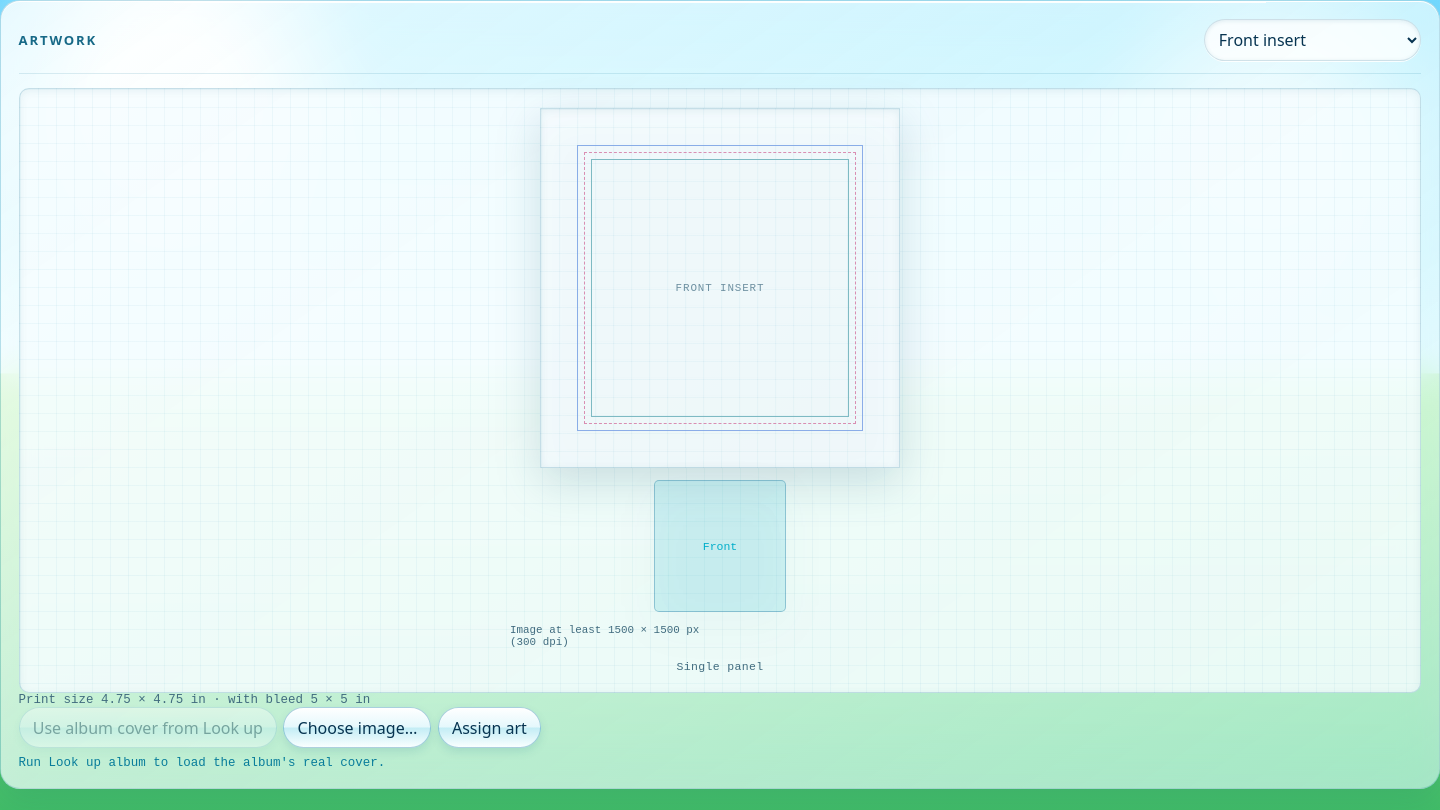
slot editor › shows a visible error when the picked file cannot be copied into the project
What coordinates should you click on to do the following:
click the button with test id "pick-image"
I would click on:
 (357, 728)
Its box is [283, 707, 431, 748].
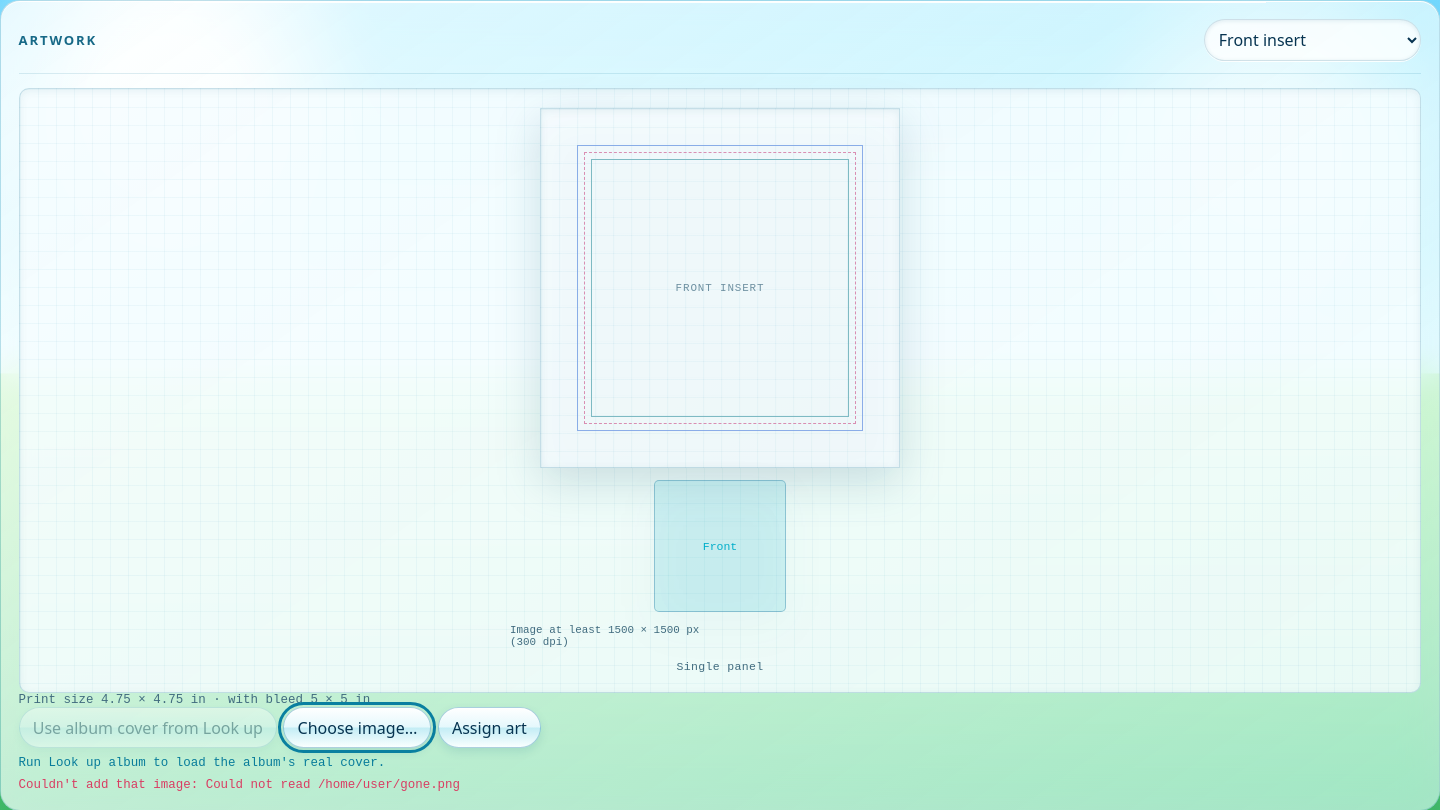
Expected: the message reads "Couldn't add that image: Could not read /home/user/gone.png", [19, 778, 460, 792]
